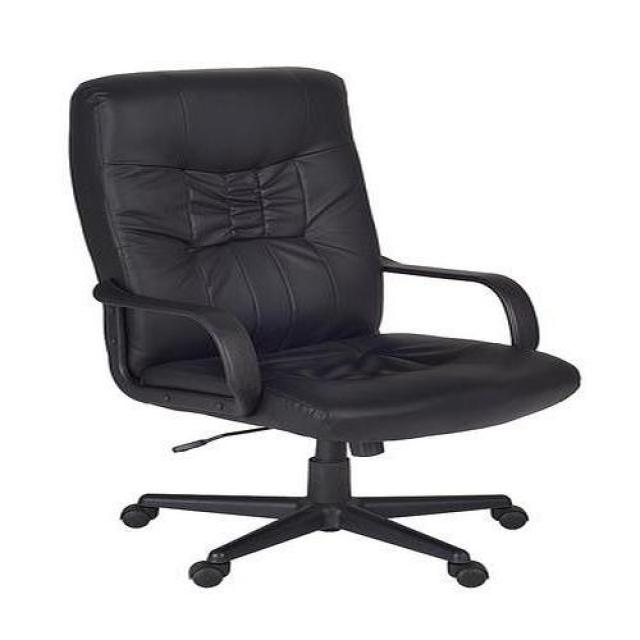swivelchair: (69, 67, 580, 591)
